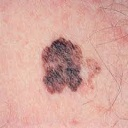Melanoma: (42, 38, 97, 93)
